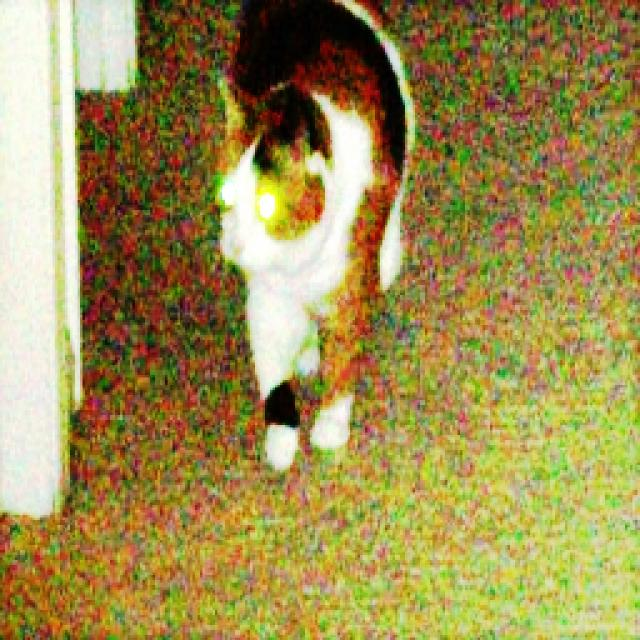cat: (175, 0, 430, 480)
